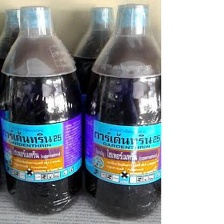insecticide: (0, 1, 88, 219), (81, 2, 166, 221), (69, 4, 134, 167), (0, 6, 54, 180)
